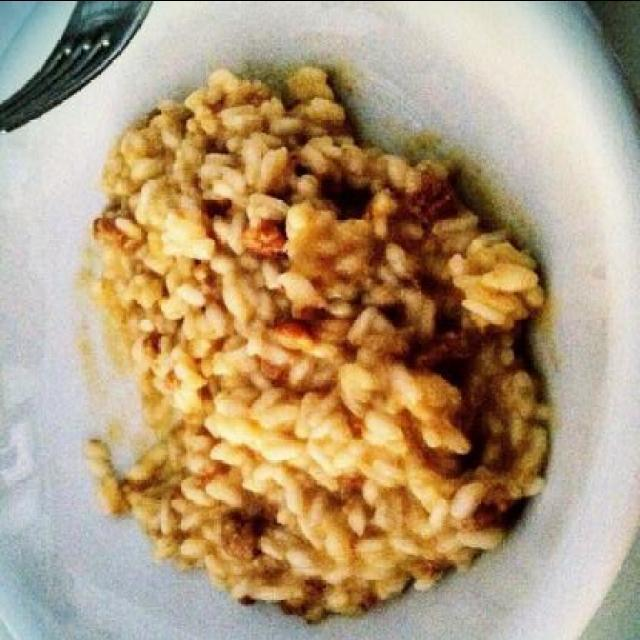Risotto: (66, 76, 552, 596)
